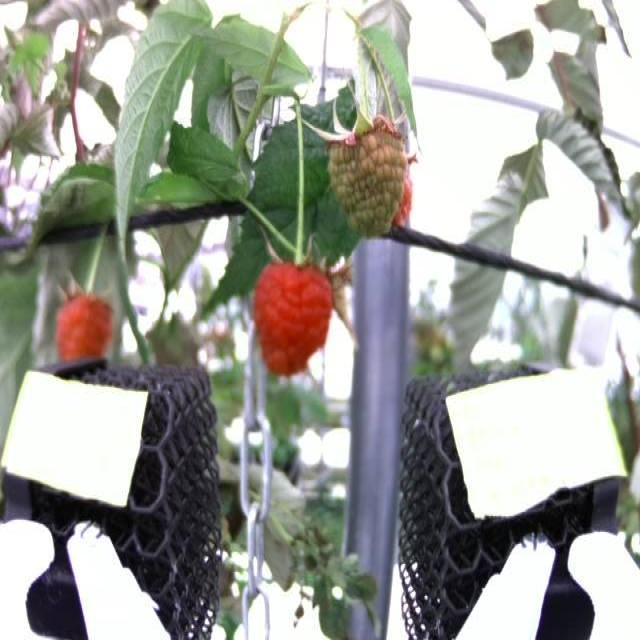Riped berries: (250, 256, 336, 374), (54, 280, 116, 365)
